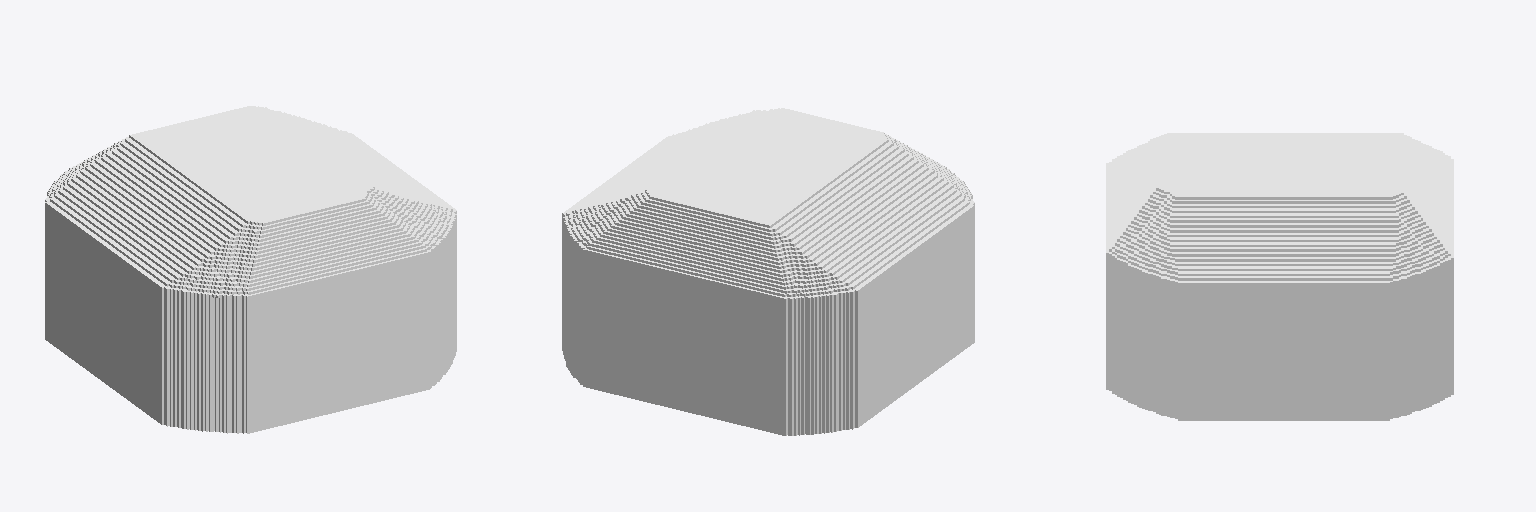
Rendered from Stadium.obj.
The picture shows the model from 3 angles: view 1: azimuth 30°, elevation 25°; view 2: azimuth 150°, elevation 25°; view 3: azimuth 270°, elevation 25°; orthographic projection.
Size of the model in its own units: 126 by 73 by 126.